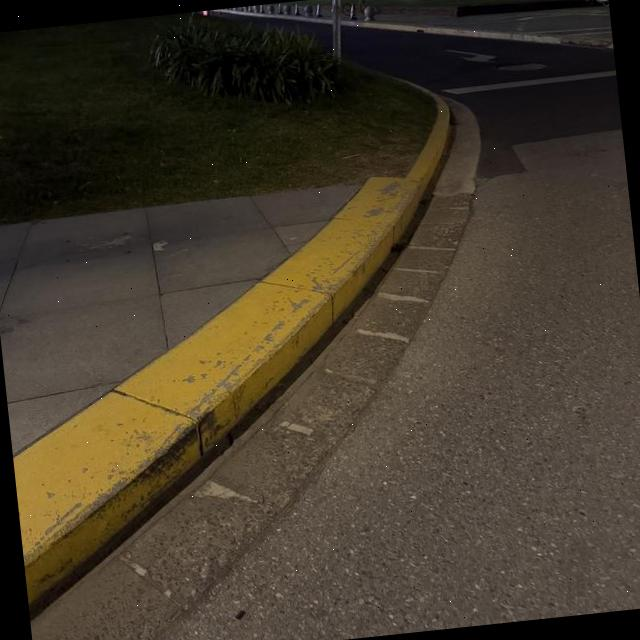curb: (13, 177, 420, 603), (340, 19, 613, 49), (405, 93, 450, 197), (209, 8, 332, 22)
